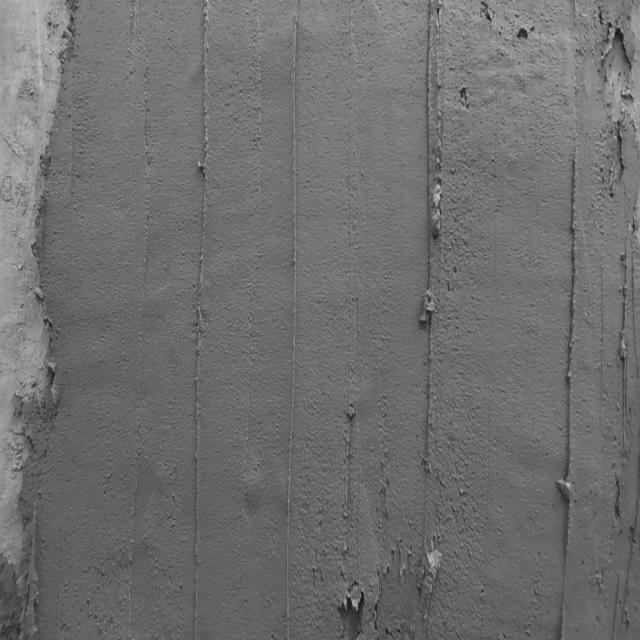trowels marks: (123, 58, 154, 640), (418, 1, 445, 635), (189, 0, 213, 638), (554, 96, 582, 640), (284, 0, 300, 640), (332, 302, 358, 574)
